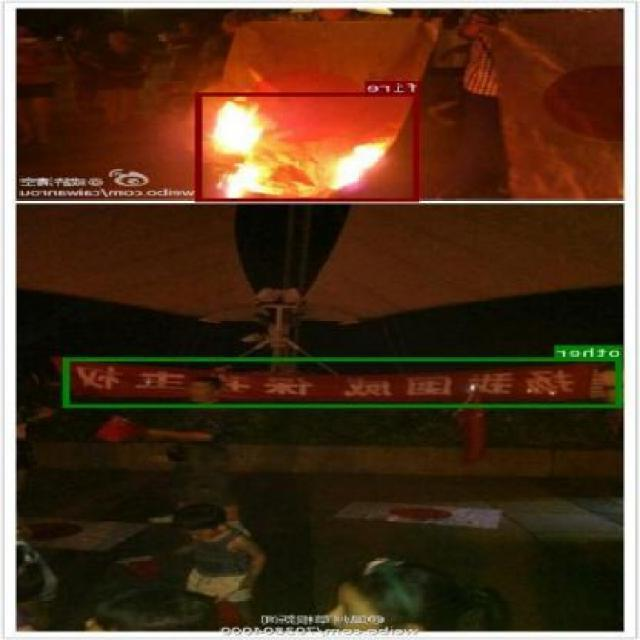Fire: (196, 92, 422, 202)
